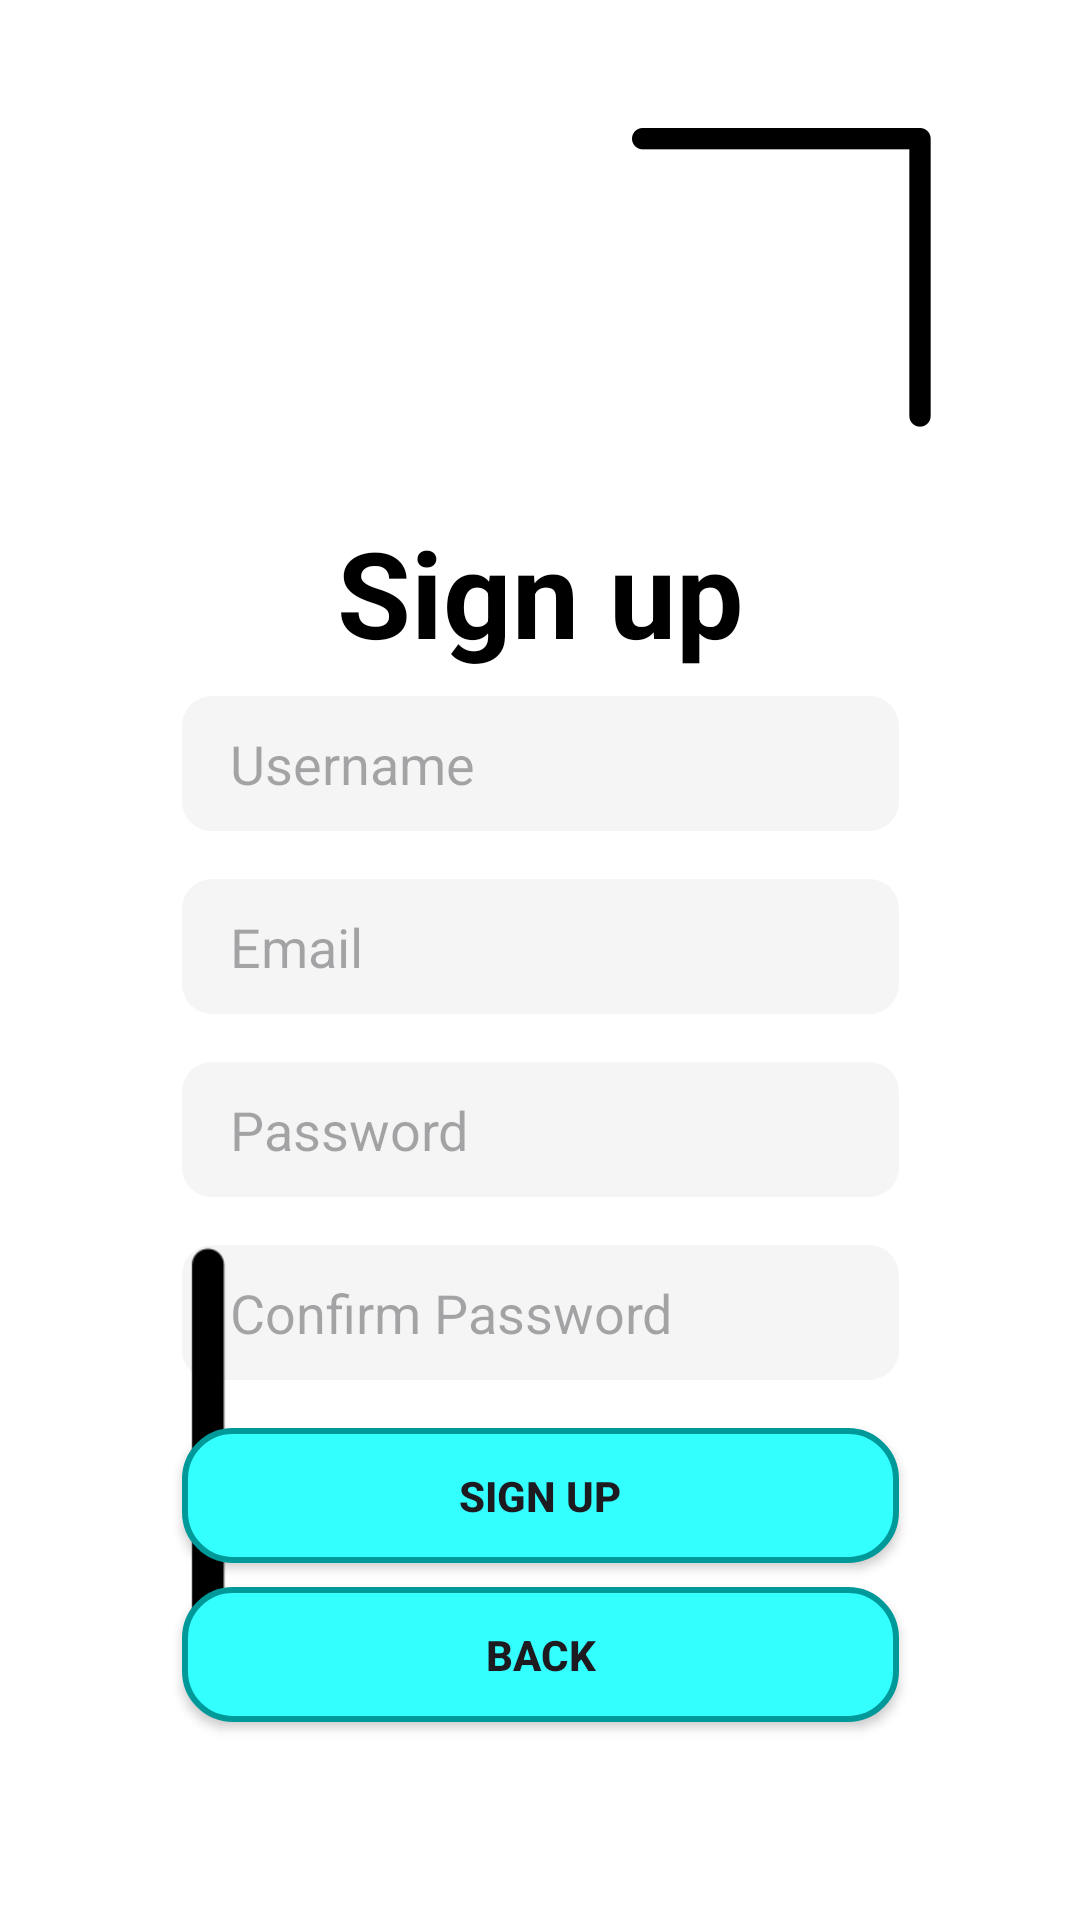

Named icons in this screenshot (1080 x 1920) and their bounding boxes, {"x1": x1, "y1": y1, "x2": x2, "y2": y2}:
top tight: {"x1": 632, "y1": 128, "x2": 931, "y2": 427}
